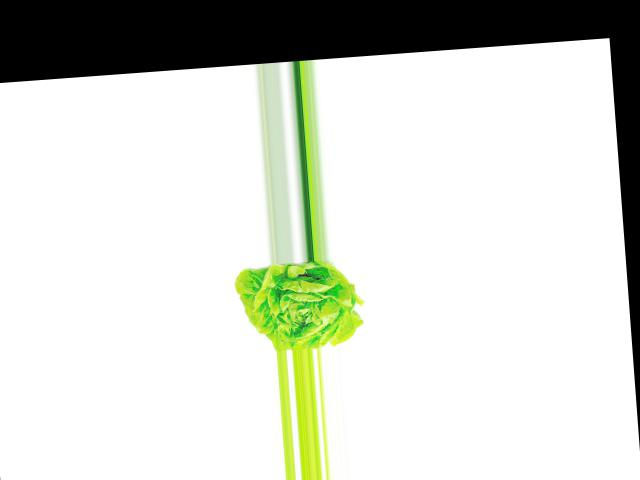lettuce: (231, 257, 362, 354)
